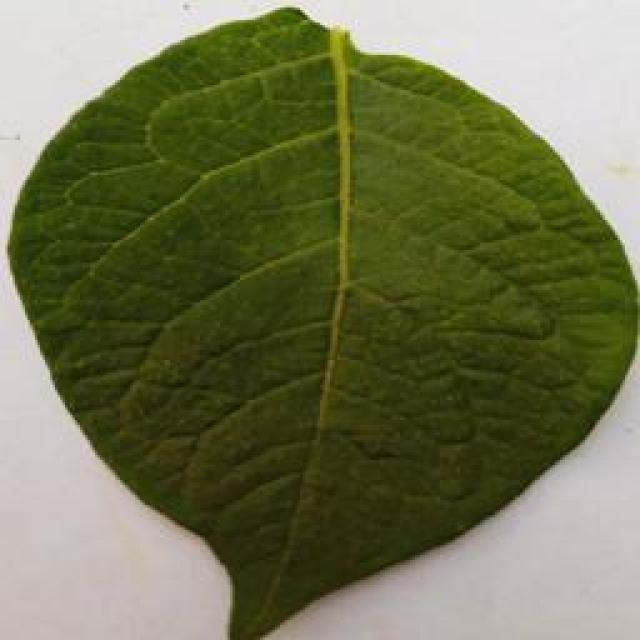Potato_Healthy: (11, 6, 626, 635)
